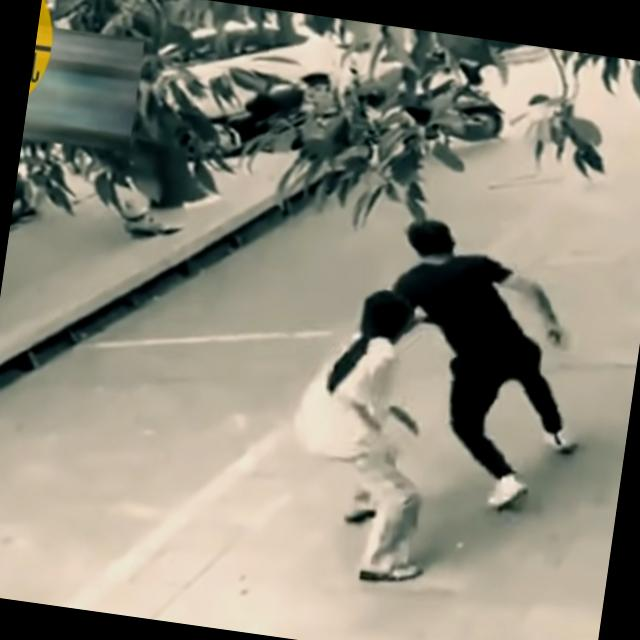person: (359, 217, 600, 510), (277, 279, 456, 589)
